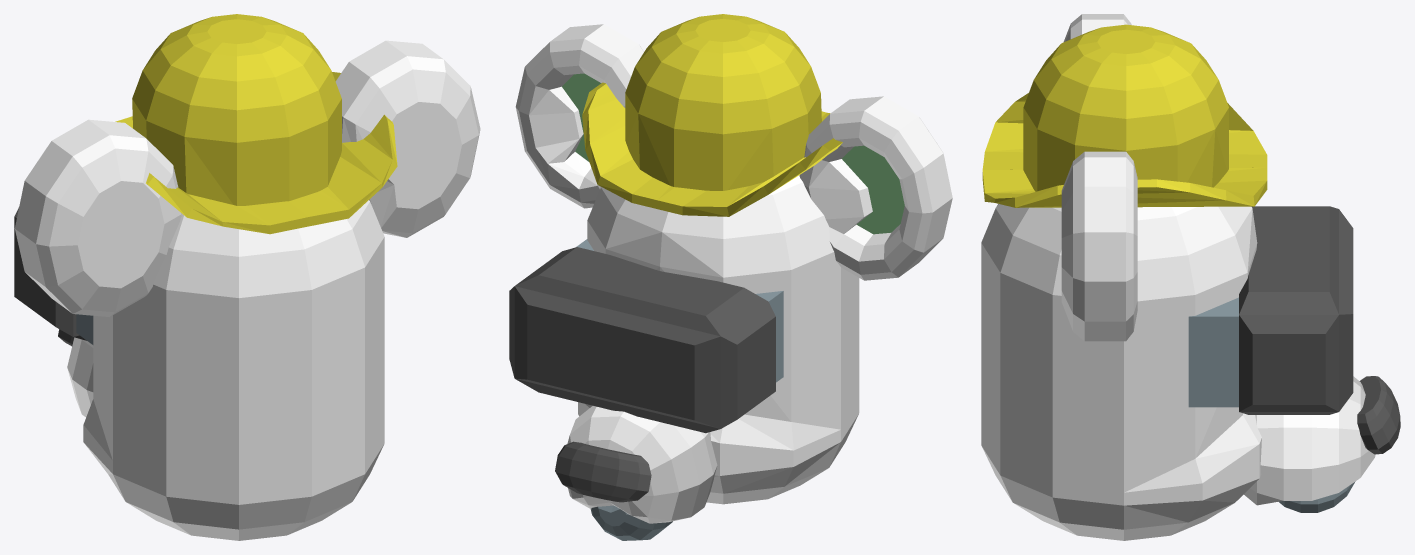
File: player4.fbx
The picture shows the model from 3 angles, left to right: view 1: azimuth 30°, elevation 25°; view 2: azimuth 150°, elevation 25°; view 3: azimuth 270°, elevation 25°; orthographic projection. The views are drawn at different scales.
Parts seen in each view (by area): view 1: mesh2125370239, mesh2118359223.001, mesh1976571735.001, mesh2019693059.001, mesh729800656.001, mesh794824012.001; view 2: mesh2125370239, mesh729800656.001, mesh2118359223.001, mesh1976571735.001, mesh794824012.001, mesh2019693059.001; view 3: mesh2125370239, mesh2118359223.001, mesh729800656.001, mesh2019693059.001, mesh794824012.001, mesh1976571735.001.
Part boxes in pixels (x1=…): mesh2125370239: x1=83, y1=200, x2=384, y2=540; mesh2118359223.001: x1=115, y1=14, x2=397, y2=234; mesh1976571735.001: x1=14, y1=119, x2=181, y2=316; mesh2019693059.001: x1=335, y1=40, x2=480, y2=237; mesh729800656.001: x1=14, y1=207, x2=93, y2=344; mesh794824012.001: x1=58, y1=329, x2=93, y2=417; mesh2125370239: x1=578, y1=175, x2=859, y2=504; mesh729800656.001: x1=509, y1=239, x2=783, y2=433; mesh2118359223.001: x1=582, y1=14, x2=842, y2=216; mesh1976571735.001: x1=799, y1=96, x2=952, y2=280; mesh794824012.001: x1=555, y1=406, x2=717, y2=540; mesh2019693059.001: x1=515, y1=24, x2=643, y2=208; mesh2125370239: x1=981, y1=204, x2=1261, y2=540; mesh2118359223.001: x1=982, y1=24, x2=1267, y2=207; mesh729800656.001: x1=1188, y1=206, x2=1353, y2=414; mesh2019693059.001: x1=1061, y1=151, x2=1137, y2=341; mesh794824012.001: x1=1244, y1=376, x2=1400, y2=512; mesh1976571735.001: x1=1063, y1=14, x2=1131, y2=41.
Size of the model in its own units: 61.53 by 64.08 by 51.14.
